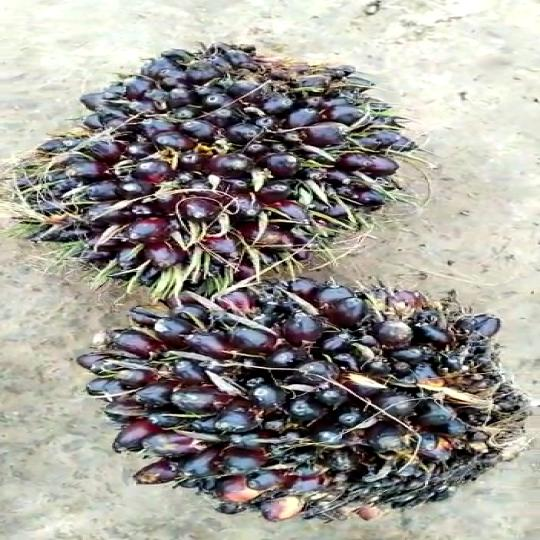mentah: (80, 272, 535, 530), (19, 36, 424, 300)
